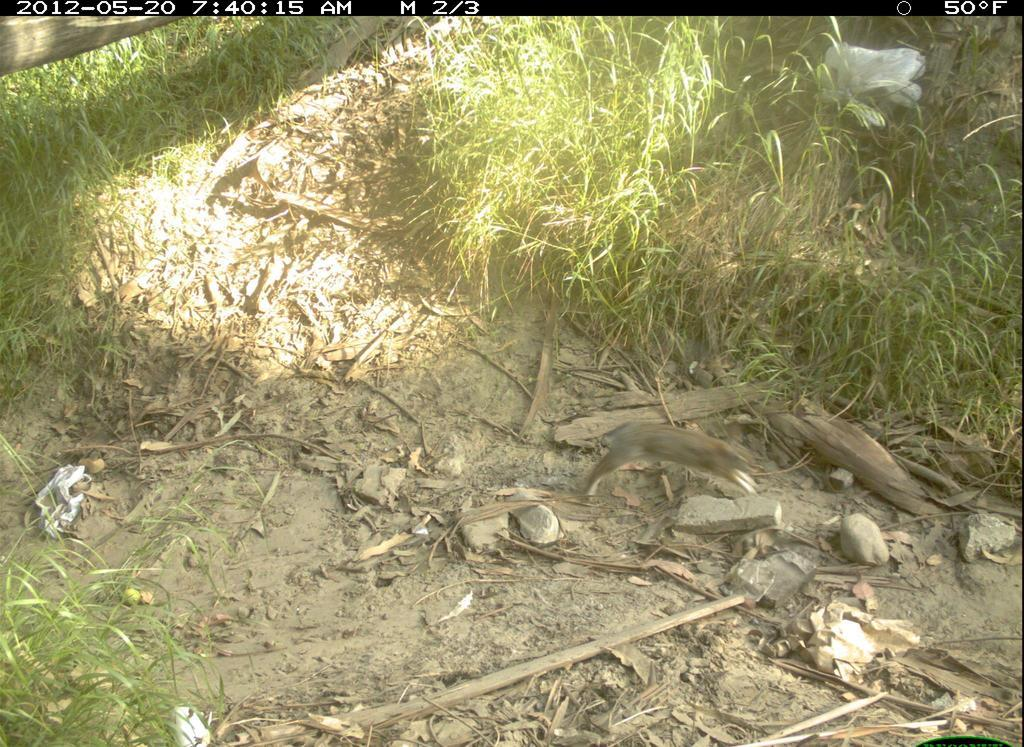rabbit: (577, 418, 790, 525)
